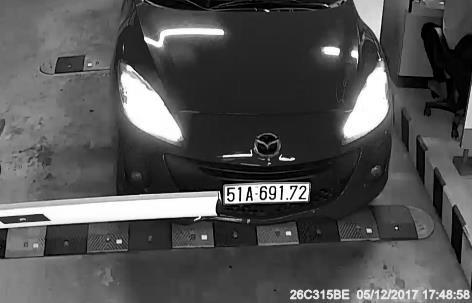License-plate: (218, 173, 320, 215)
